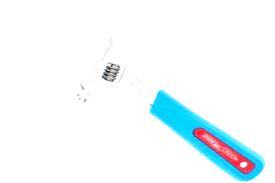wrench: (32, 35, 241, 153)
